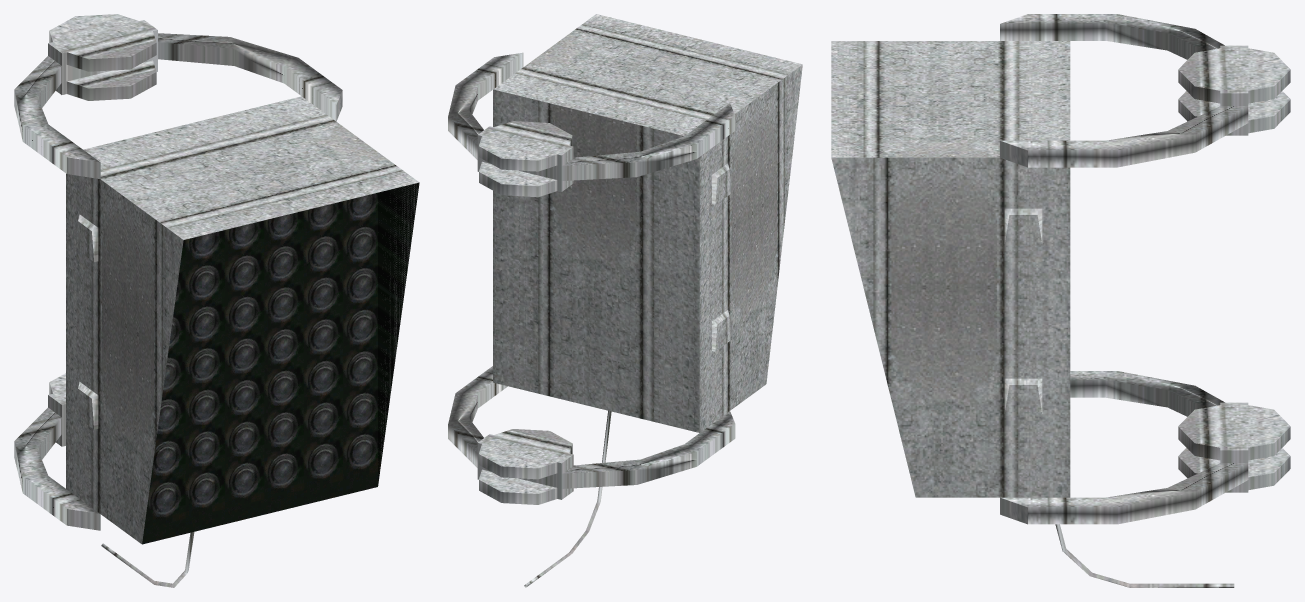
The model's file is route_pointer.obj.
3 renders of one model, left to right at view 1: azimuth 30°, elevation 25°; view 2: azimuth 150°, elevation 25°; view 3: azimuth 270°, elevation 25°, orthographic. The views are drawn at different scales.
Visible parts, largest first — view 1: RoutePointer_1, RoutePointer_0; view 2: RoutePointer_1; view 3: RoutePointer_1.
Part boxes in pixels (bbox=[...]): RoutePointer_1: bbox=[14, 14, 419, 587]; RoutePointer_0: bbox=[142, 182, 419, 544]; RoutePointer_1: bbox=[448, 14, 802, 587]; RoutePointer_1: bbox=[831, 14, 1290, 587].
Bounding box in the file's own units: 0.6893 × 1.22 × 0.98.
Materials: 2 (2 with a texture image).
